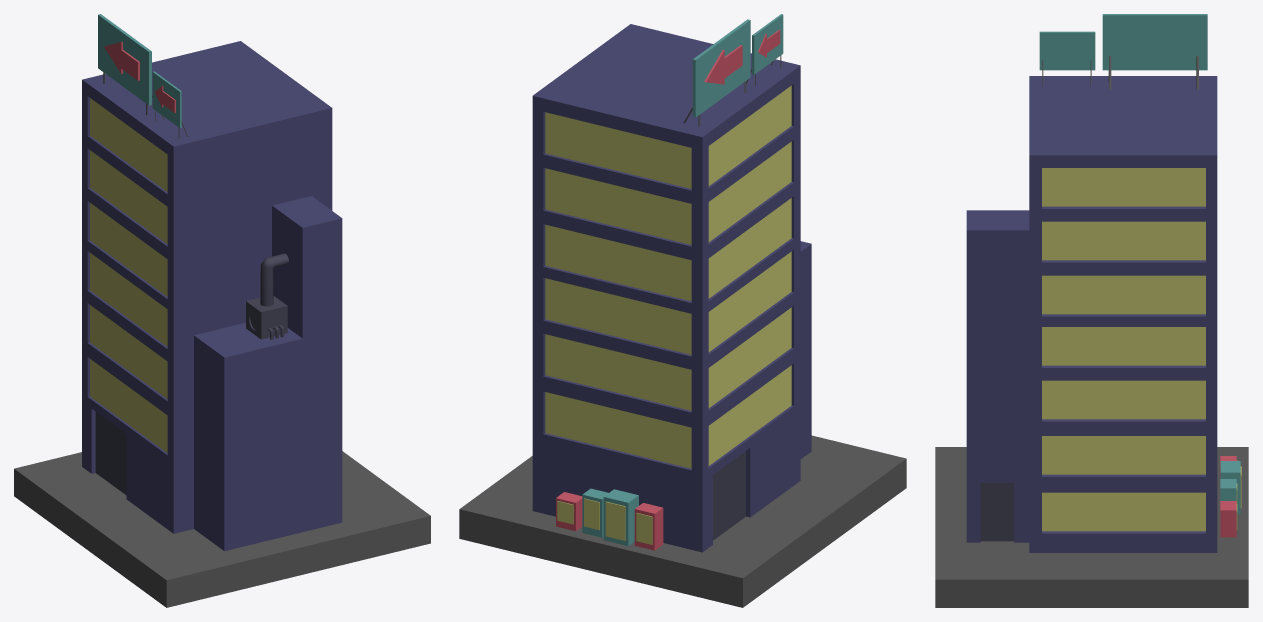
The model's file is House_4.fbx.
3 renders of one model, left to right at view 1: azimuth 30°, elevation 25°; view 2: azimuth 150°, elevation 25°; view 3: azimuth 270°, elevation 25°, orthographic. The views are drawn at different scales.
Parts seen in each view (by area): view 1: House_8, Block_Tile_1, House_8_1, House_8_2, Advertisement1, Airfilter1, Advertisement2; view 2: House_8, Block_Tile_1, Vending_machines_1, Advertisement1, House_8_1, Advertisement2; view 3: House_8, Block_Tile_1, House_8_2, Advertisement1, Advertisement2, Vending_machines_1.
Boxes of the visible parts, x1,y1,x2,y2 form: House_8: (82,41,332,533); Block_Tile_1: (14,451,430,607); House_8_1: (194,322,303,551); House_8_2: (272,196,342,531); Advertisement1: (98,14,152,115); Airfilter1: (246,253,288,339); Advertisement2: (152,71,187,138); House_8: (532,24,800,552); Block_Tile_1: (459,435,906,607); Vending_machines_1: (556,488,663,550); Advertisement1: (683,19,750,126); House_8_1: (800,241,811,458); Advertisement2: (746,14,783,85); House_8: (1029,76,1217,552); Block_Tile_1: (935,447,1248,607); House_8_2: (966,210,1029,542); Advertisement1: (1102,14,1207,89); Advertisement2: (1039,31,1095,86); Vending_machines_1: (1220,456,1241,537).
Bounding box in the file's own units: 10 × 17.37 × 10.
